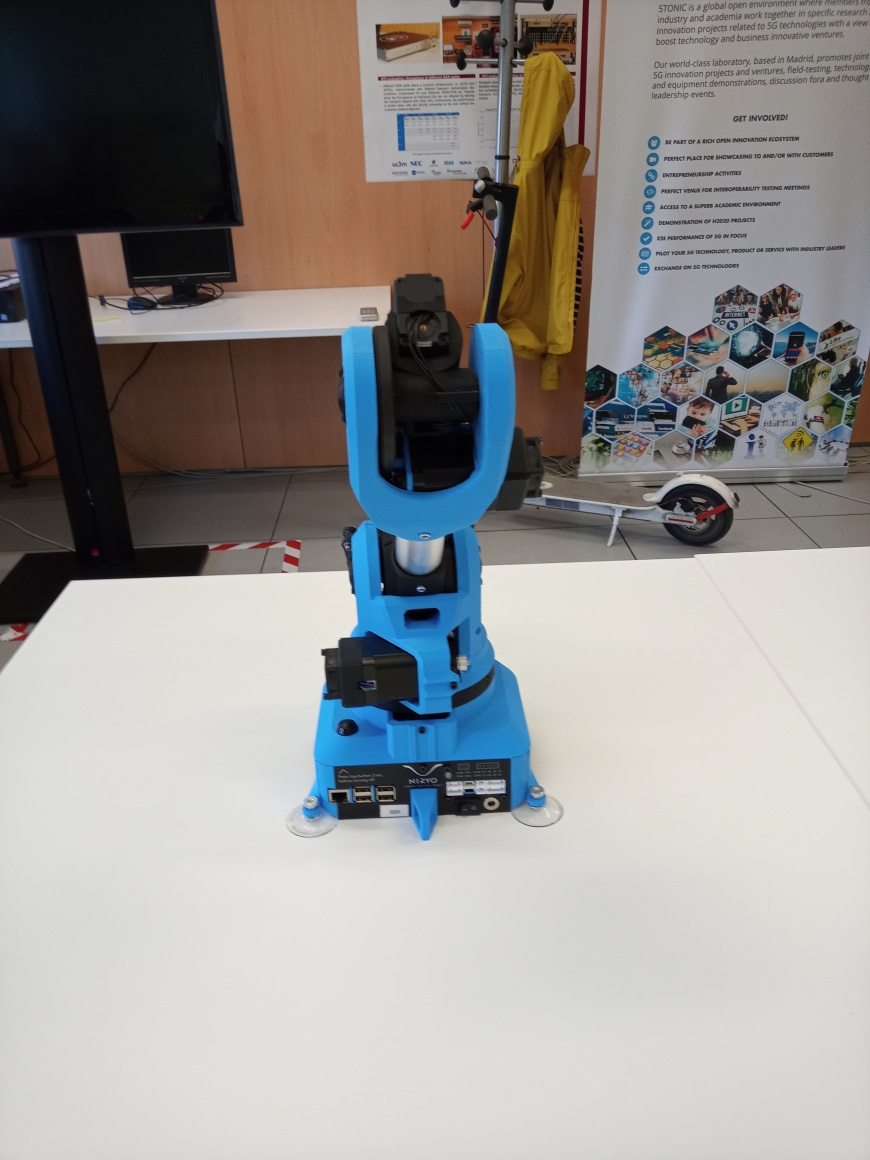robot: (283, 270, 568, 843)
